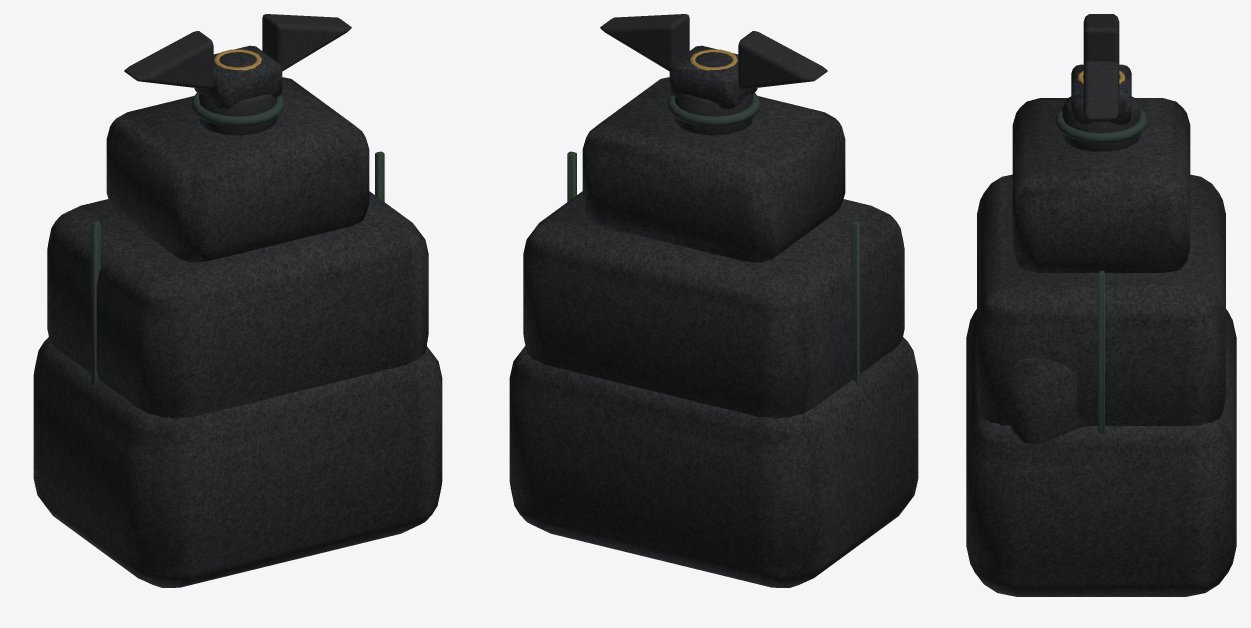
Rendered from asset_080_trash_bag.glb.
3 renders of one model, left to right at view 1: azimuth 30°, elevation 25°; view 2: azimuth 150°, elevation 25°; view 3: azimuth 270°, elevation 25°, orthographic.
Visible parts, largest first — view 1: MESH_BagBase, MESH_BagBelly, MESH_BagShoulder, MESH_BagEarL, MESH_BagKnot, MESH_BagEarR, MESH_BagNeck, MESH_BagSeamL, MESH_BagDrawstring; view 2: MESH_BagBase, MESH_BagBelly, MESH_BagShoulder, MESH_BagEarL, MESH_BagKnot, MESH_BagEarR, MESH_BagNeck, MESH_BagSeamL, MESH_BagDrawstring; view 3: MESH_BagBase, MESH_BagBelly, MESH_BagShoulder, MESH_BagCrinkle, MESH_BagEarR, MESH_BagEarL, MESH_BagNeck, MESH_BagKnot, MESH_BagDrawstring, MESH_BagSeamR.
Boxes of the visible parts, x1,y1,x2,y2 form: MESH_BagBase: (33, 337, 442, 587); MESH_BagBelly: (47, 191, 428, 418); MESH_BagShoulder: (106, 77, 369, 262); MESH_BagEarL: (124, 31, 213, 89); MESH_BagKnot: (194, 45, 282, 109); MESH_BagEarR: (262, 14, 351, 71); MESH_BagNeck: (199, 94, 276, 135); MESH_BagSeamL: (91, 220, 100, 385); MESH_BagDrawstring: (191, 92, 284, 126); MESH_BagBase: (509, 337, 918, 587); MESH_BagBelly: (523, 191, 904, 418); MESH_BagShoulder: (582, 77, 845, 262); MESH_BagEarL: (738, 31, 827, 89); MESH_BagKnot: (669, 45, 757, 109); MESH_BagEarR: (600, 14, 689, 71); MESH_BagNeck: (675, 94, 752, 135); MESH_BagSeamL: (851, 220, 860, 385); MESH_BagDrawstring: (667, 92, 760, 126); MESH_BagBase: (966, 309, 1236, 596); MESH_BagBelly: (977, 174, 1225, 425); MESH_BagShoulder: (1012, 98, 1190, 272); MESH_BagCrinkle: (1010, 357, 1087, 444); MESH_BagEarR: (1083, 61, 1119, 119); MESH_BagEarL: (1083, 14, 1119, 64); MESH_BagNeck: (1062, 96, 1140, 151); MESH_BagKnot: (1071, 64, 1131, 125); MESH_BagDrawstring: (1055, 108, 1147, 143); MESH_BagSeamR: (1098, 270, 1104, 434).
Size of the model in its own units: 0.5 by 0.7658 by 0.38.
Materials: 4 (3 with a texture image).
